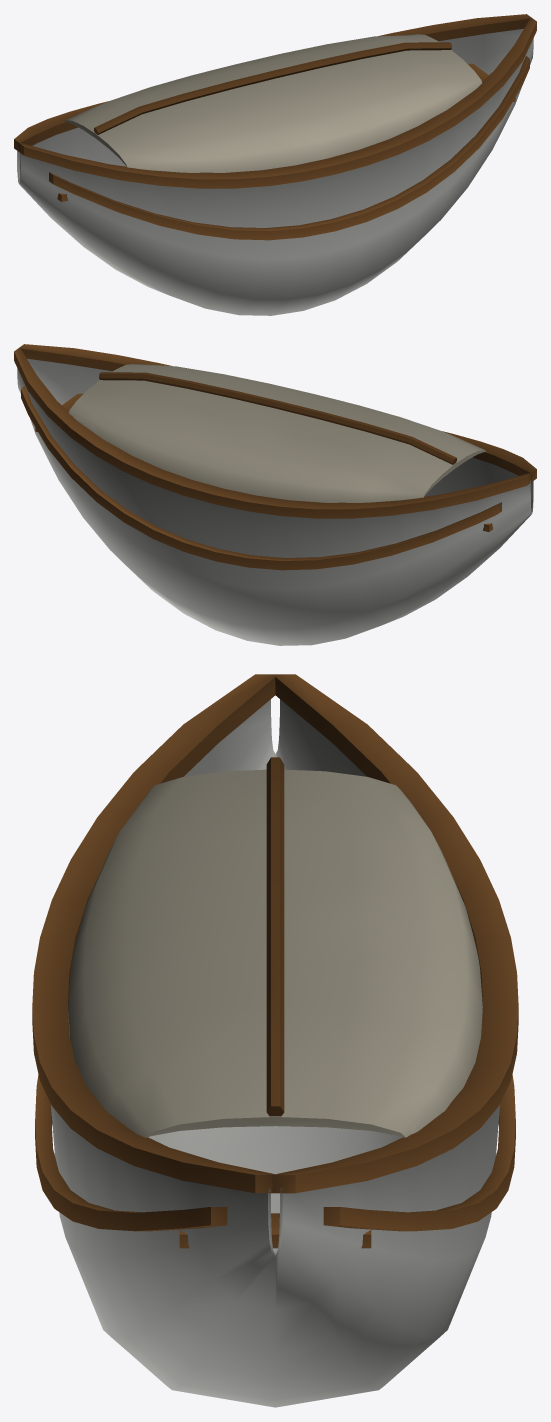
Rendered from lifeboat-standard.glb.
3 renders of one model, top to bottom at view 1: azimuth 30°, elevation 25°; view 2: azimuth 150°, elevation 25°; view 3: azimuth 270°, elevation 25°, orthographic. The views are drawn at different scales.
Parts seen in each view (by area): view 1: lifeboat, boatCover, gunwale; view 2: lifeboat, boatCover, gunwale; view 3: boatCover, lifeboat, gunwale.
Boxes of the visible parts, box(x1,y1,x2,y2) form: lifeboat: box(17, 28, 533, 315); boatCover: box(65, 34, 482, 172); gunwale: box(14, 14, 536, 240); lifeboat: box(17, 358, 533, 645); boatCover: box(68, 364, 485, 502); gunwale: box(14, 344, 536, 570); boatCover: box(68, 769, 482, 1137); lifeboat: box(51, 699, 499, 1407); gunwale: box(32, 674, 518, 1248).
Bounding box in the file's own units: 0.9334 × 0.3981 × 0.3832.
